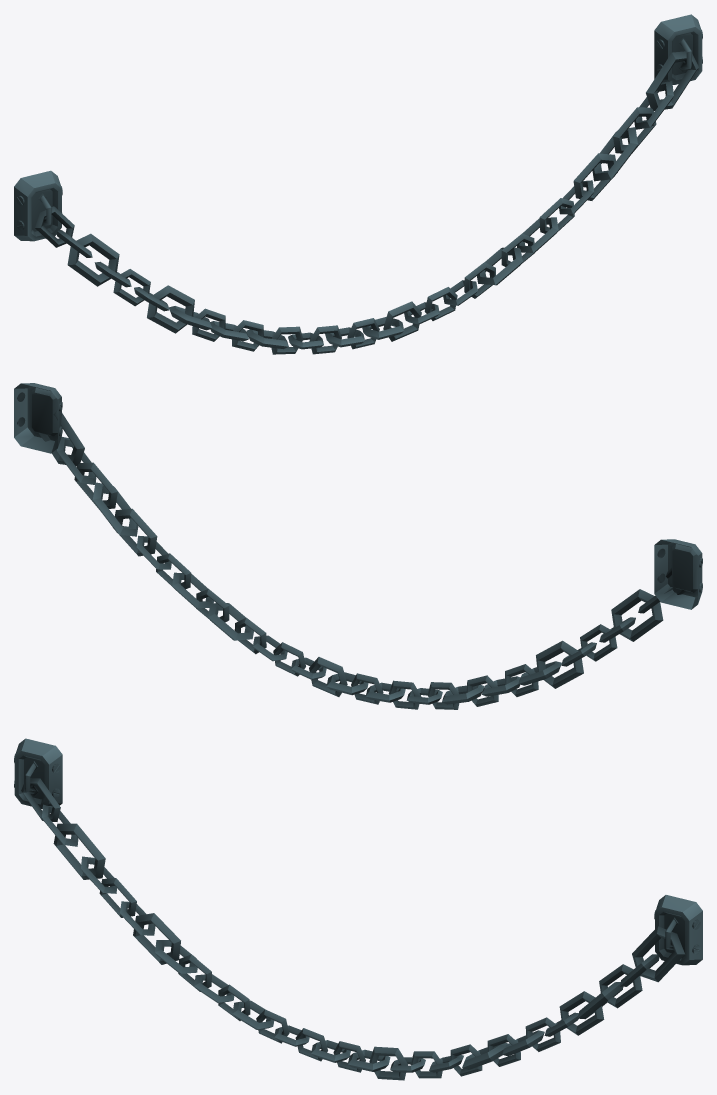
Rendered from obj_chain_arch_B.FBX.
3 views of the same model, one above another, from view 1: azimuth 30°, elevation 25°; view 2: azimuth 150°, elevation 25°; view 3: azimuth 330°, elevation 25° (orthographic).
Visible parts, largest first — view 1: obj_chain_arch_B; view 2: obj_chain_arch_B; view 3: obj_chain_arch_B.
Boxes of the visible parts, x1,y1,x2,y2 form: obj_chain_arch_B: (14,14,702,354); obj_chain_arch_B: (14,383,702,709); obj_chain_arch_B: (14,738,702,1080).
Size of the model in its own units: 5.72 by 1.96 by 0.2841.
